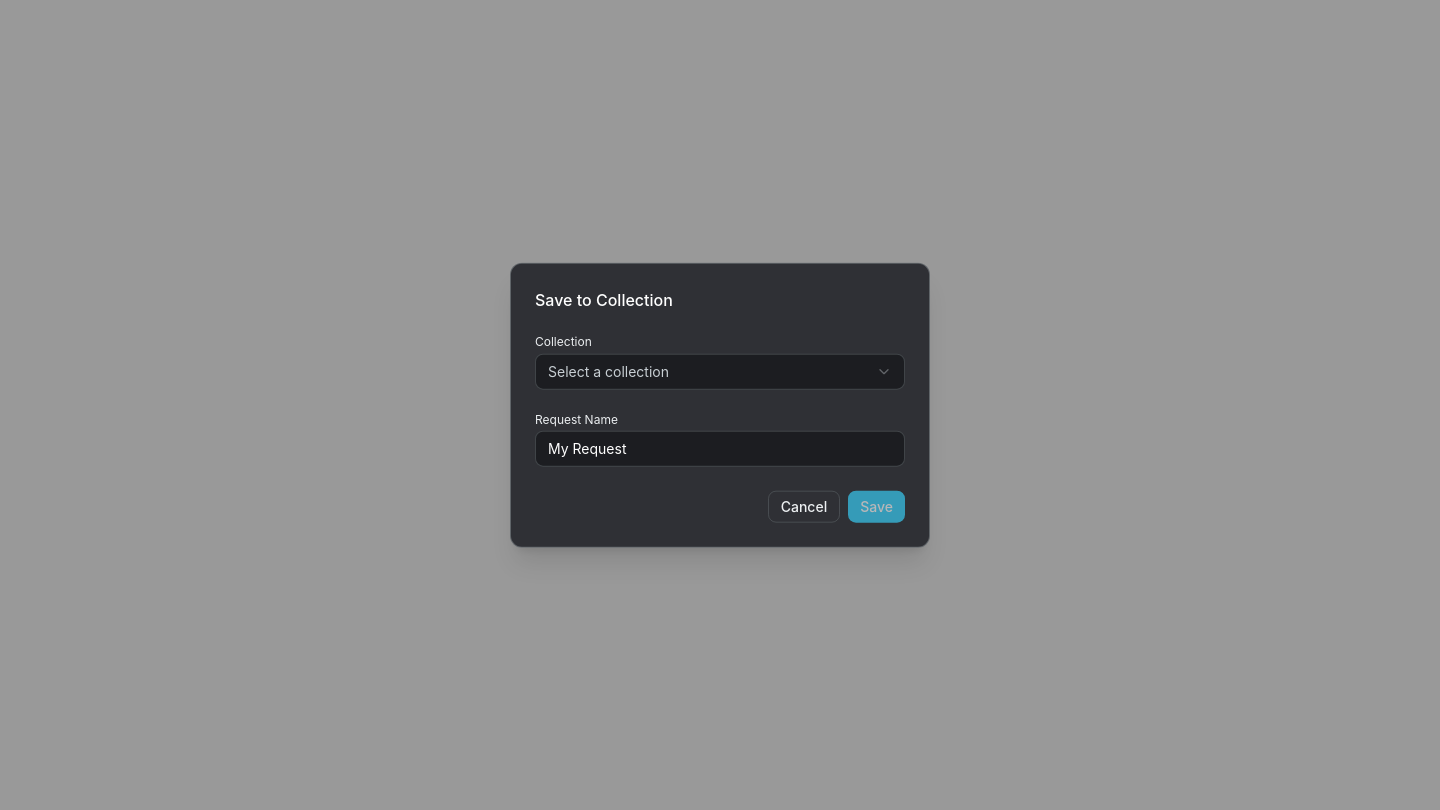
it: SaveToCollectionDialog › enables save button when collection selected and name entered
The image size is (1440, 810).
Step 1. Click the dropdown with test id "collection-picker" → (608, 371), box [535,353,905,389]
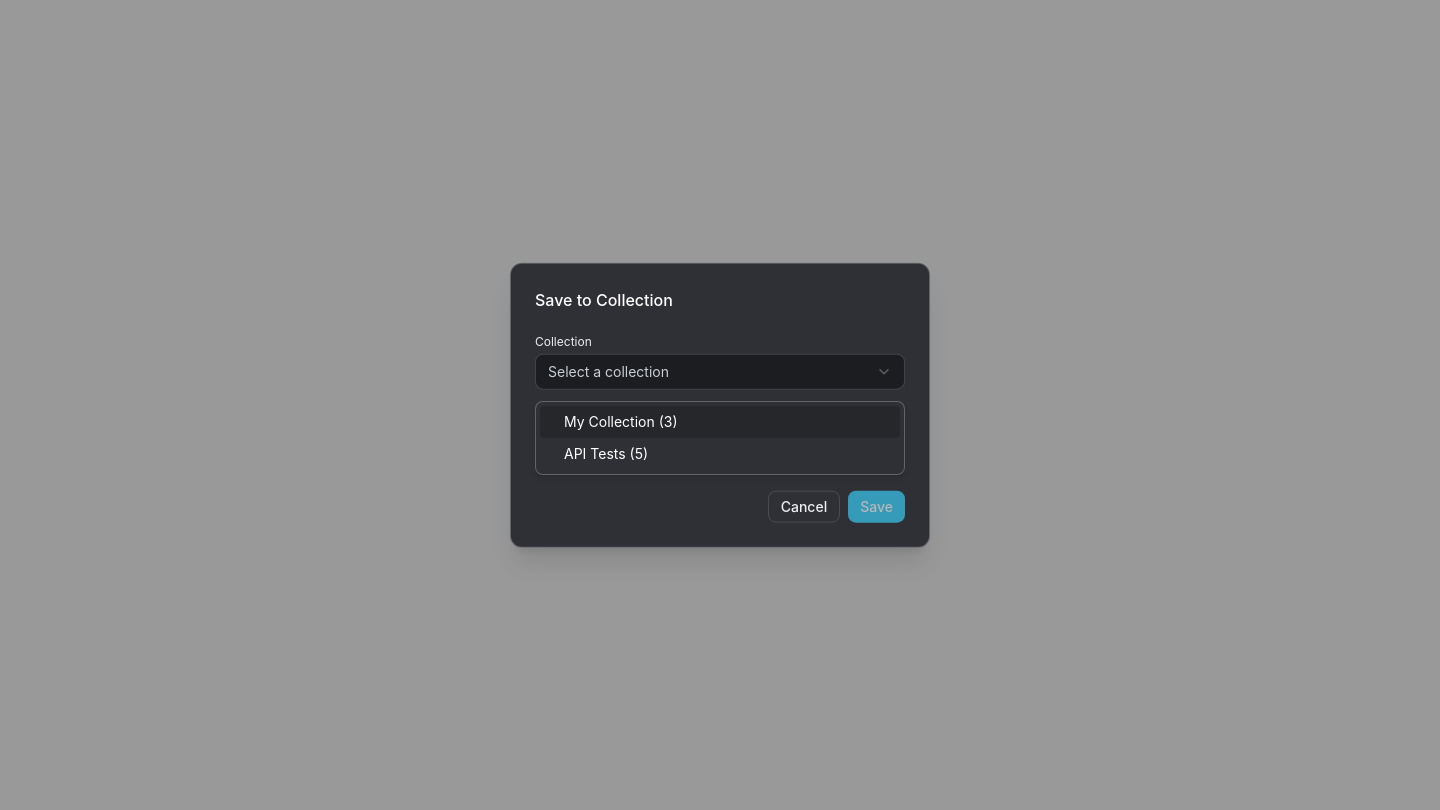
Step 2. Click the option with test id "collection-option-col-1" → (609, 422), box [540,406,900,438]
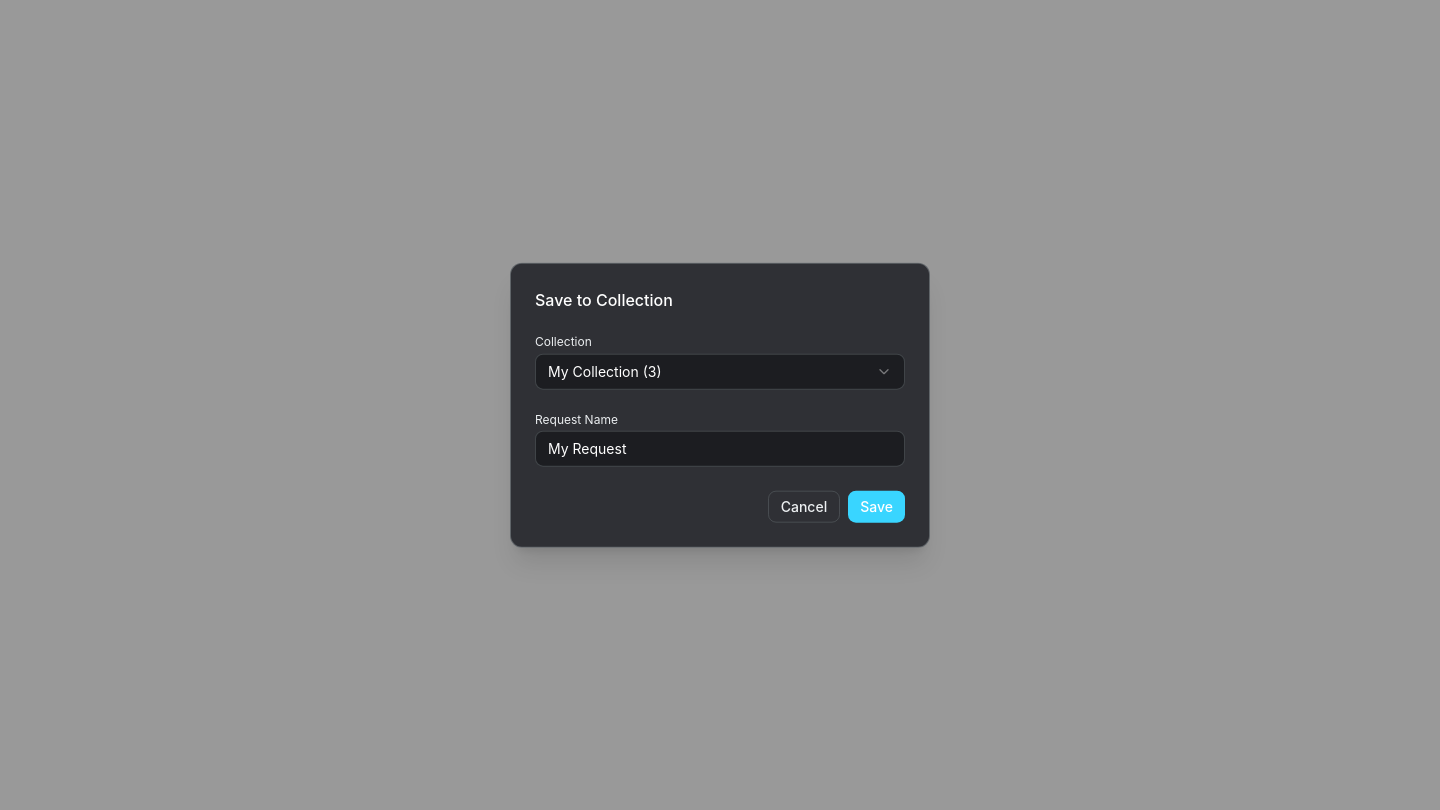
Now the button with test id "save-button" is enabled, box [848,490,905,522]
